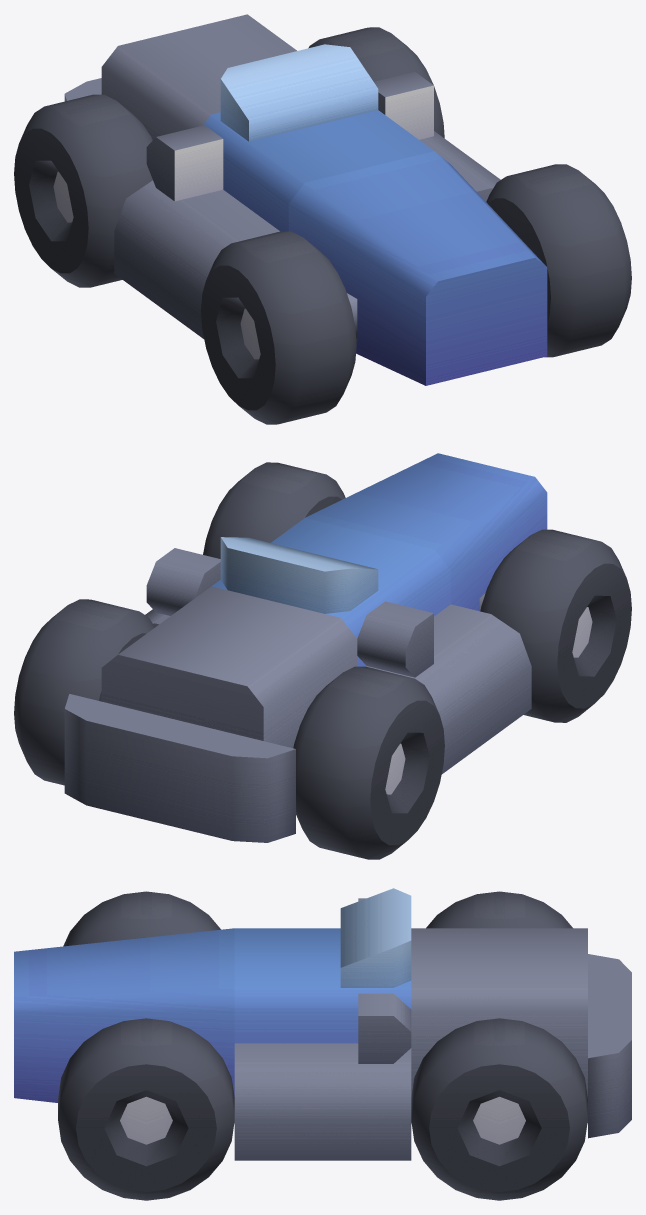
File: car_blue.glb
The picture shows the model from 3 angles, top to bottom: view 1: azimuth 30°, elevation 25°; view 2: azimuth 150°, elevation 25°; view 3: azimuth 270°, elevation 25°; orthographic projection. The views are drawn at different scales.
Visible parts, largest first — view 1: vehicle-vintage-racer, wheel-bl, wheel-fl, wheel-br, wheel-fr; view 2: vehicle-vintage-racer, wheel-fl, wheel-bl, wheel-fr, wheel-br; view 3: vehicle-vintage-racer, wheel-br, wheel-fr, wheel-bl, wheel-fl.
Boxes of the visible parts, x1=… form: vehicle-vintage-racer: x1=64, y1=14, x2=547, y2=385; wheel-bl: x1=201, y1=231, x2=356, y2=424; wheel-fl: x1=14, y1=94, x2=152, y2=287; wheel-br: x1=486, y1=164, x2=631, y2=357; wheel-fr: x1=308, y1=27, x2=444, y2=138; vehicle-vintage-racer: x1=64, y1=453, x2=547, y2=842; wheel-fl: x1=293, y1=666, x2=444, y2=859; wheel-bl: x1=480, y1=529, x2=631, y2=722; wheel-fr: x1=14, y1=599, x2=154, y2=785; wheel-br: x1=203, y1=462, x2=345, y2=558; vehicle-vintage-racer: x1=14, y1=888, x2=631, y2=1160; wheel-br: x1=58, y1=1018, x2=234, y2=1200; wheel-fr: x1=411, y1=1018, x2=587, y2=1200; wheel-bl: x1=63, y1=891, x2=220, y2=946; wheel-fl: x1=426, y1=891, x2=572, y2=928.
Bounding box in the file's own units: 0.55 × 0.325 × 0.875.
Materials: 1 (1 with a texture image).
